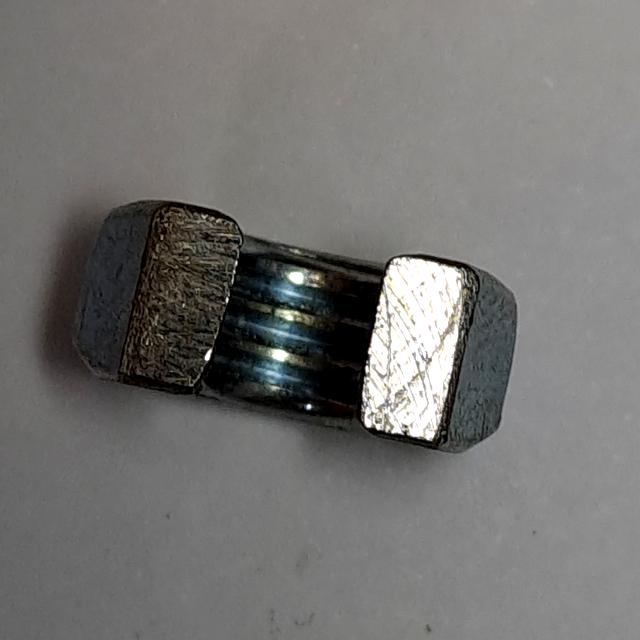Side-Fracture: (53, 175, 534, 483)
